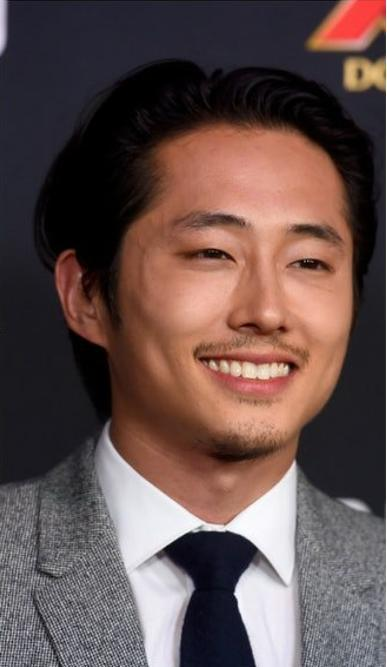Sober: (136, 132, 354, 442)
